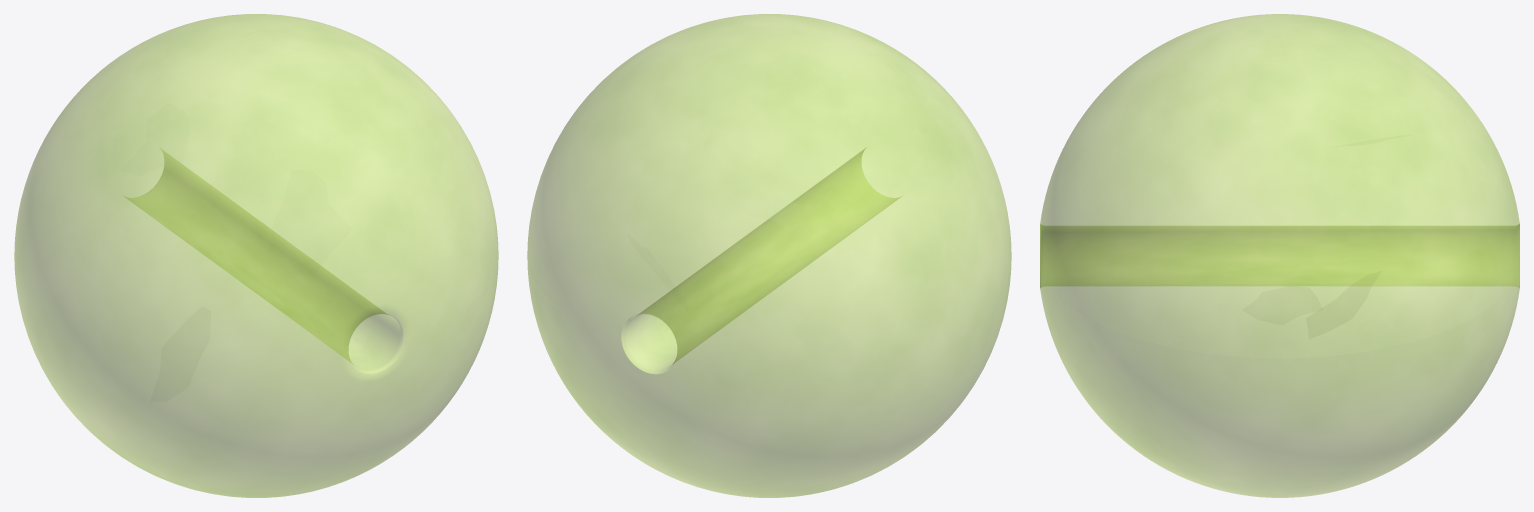
The model's file is peridot-gem.glb.
3 renders of one model, left to right at view 1: azimuth 30°, elevation 25°; view 2: azimuth 150°, elevation 25°; view 3: azimuth 270°, elevation 25°, orthographic.
Visible parts, largest first — view 1: peridot-gem.001; view 2: peridot-gem.001; view 3: peridot-gem.001.
Part boxes in pixels (box(x1,y1,x2,y2)): peridot-gem.001: box(14, 14, 498, 497); peridot-gem.001: box(527, 14, 1011, 497); peridot-gem.001: box(1040, 14, 1519, 497).
Bounding box in the file's own units: 0.008 × 0.008 × 0.00793.
2 materials, 1 textured.
